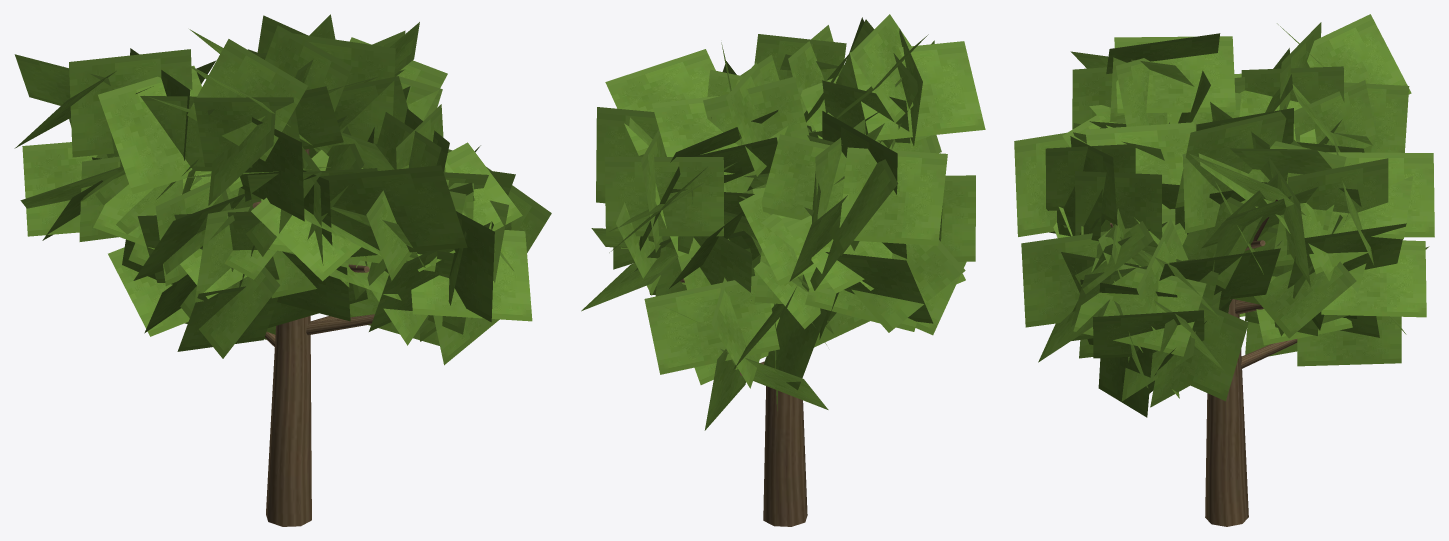
3 views of the same model, side by side, from view 1: azimuth 30°, elevation 25°; view 2: azimuth 150°, elevation 25°; view 3: azimuth 270°, elevation 25° (orthographic). The views are drawn at different scales.
Parts seen in each view (by area): view 1: oak-leaf, oak-bark; view 2: oak-leaf, oak-bark; view 3: oak-leaf, oak-bark.
Boxes of the visible parts, x1,y1,x2,y2 form: oak-leaf: (14, 14, 551, 365); oak-bark: (252, 149, 374, 526); oak-leaf: (581, 14, 985, 430); oak-bark: (680, 278, 807, 526); oak-leaf: (1014, 14, 1434, 417); oak-bark: (1110, 199, 1297, 526).
Bounding box in the file's own units: 8.67 × 9.65 × 8.07.
2 materials, 2 textured.
